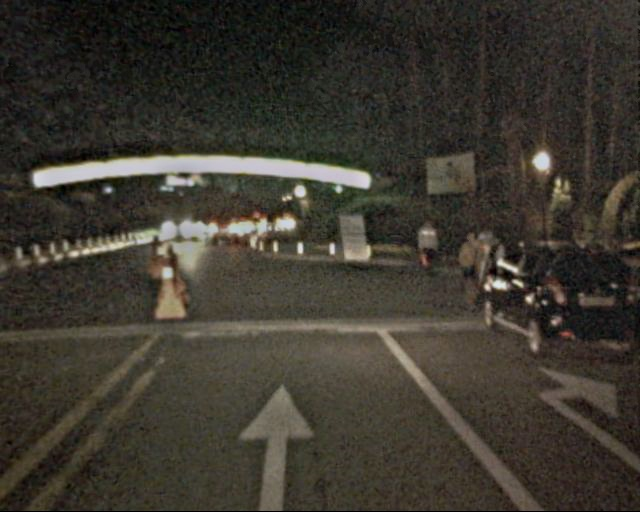person: (453, 230, 483, 304), (479, 231, 508, 301), (415, 221, 439, 280)
